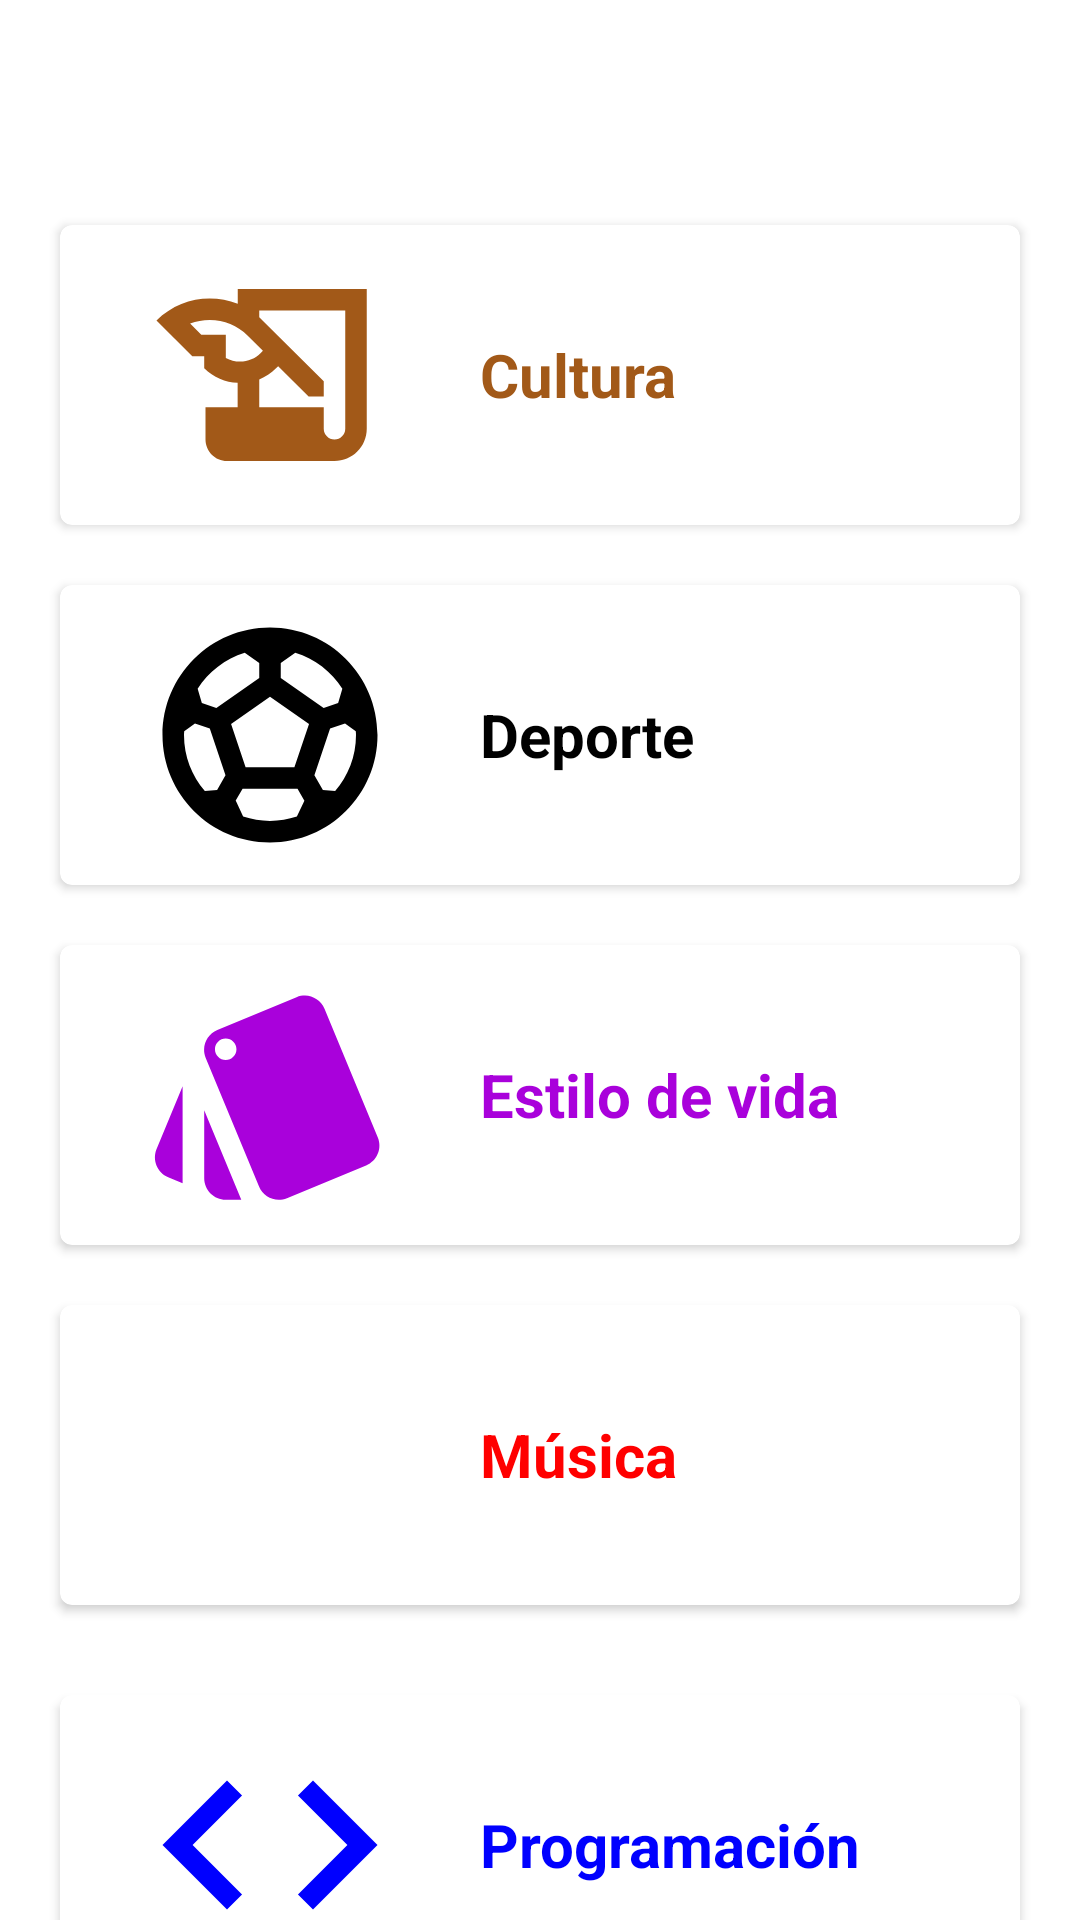

Icon bounding boxes for this 1080*1920 phone screenshot, format bbox=[x1, y1, x2, y2]:
category culture: bbox=[156, 289, 367, 461]
category lifestyle: bbox=[155, 995, 380, 1200]
category sports: bbox=[162, 627, 378, 843]
